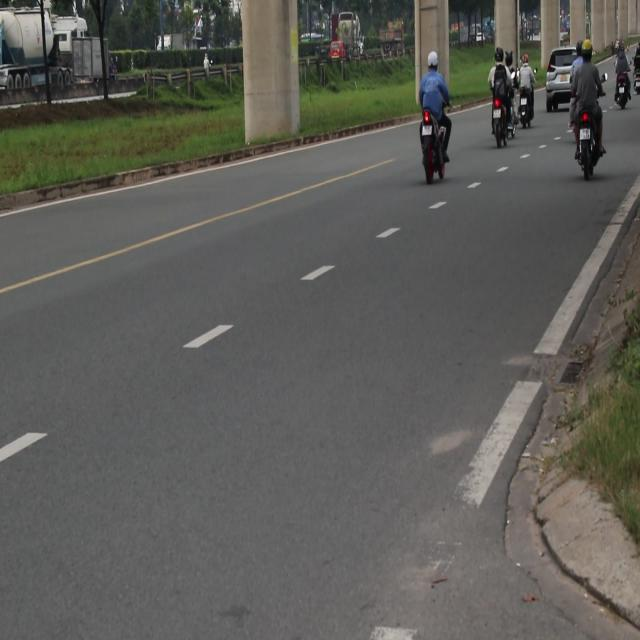car: (545, 47, 581, 111), (299, 31, 324, 42)
motorbike: (417, 108, 453, 189), (576, 102, 598, 175), (488, 98, 514, 146), (515, 83, 534, 128), (616, 72, 632, 110)
truck: (65, 30, 117, 93), (335, 14, 375, 70)
